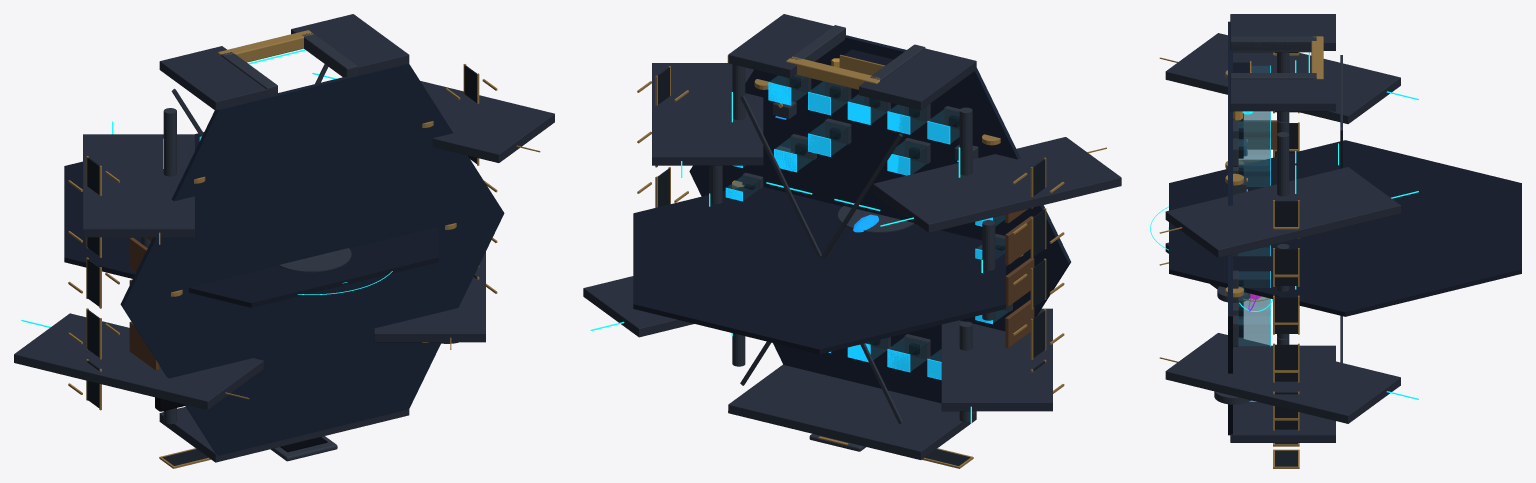
Rendered from newglb.glb.
The picture shows the model from 3 angles, left to right: view 1: azimuth 30°, elevation 25°; view 2: azimuth 150°, elevation 25°; view 3: azimuth 270°, elevation 25°; orthographic projection. The views are drawn at different scales.
Visible parts, largest first — view 1: MUSEUM_HEXAGONAL_FLOOR, MUSEUM_HIGH_HEXAGONAL_CEILING, MUSEUM_OUTER_WALL_02, MUSEUM_OUTER_WALL_03, MUSEUM_OUTER_WALL_00, MUSEUM_FRONT_WALL_LEFT, MUSEUM_OUTER_WALL_05, MUSEUM_FRONT_WALL_RIGHT, MUSEUM_OUTER_WALL_04, ENTRANCE_TOP, ENTRANCE_RIGHT_PILLAR, DRAVYA_CORE_BASE (+4 smaller); view 2: MUSEUM_HIGH_HEXAGONAL_CEILING, MUSEUM_HEXAGONAL_FLOOR, MUSEUM_OUTER_WALL_04, MUSEUM_OUTER_WALL_02, MUSEUM_OUTER_WALL_00, MUSEUM_OUTER_WALL_03, MUSEUM_FRONT_WALL_LEFT, MUSEUM_FRONT_WALL_RIGHT, MUSEUM_OUTER_WALL_05, ENTRANCE_TOP, DIGITAL_ART_CASE_22, CEILING_RADIAL_BEAM_01 (+17 smaller); view 3: MUSEUM_HIGH_HEXAGONAL_CEILING, MUSEUM_OUTER_WALL_00, MUSEUM_OUTER_WALL_05, MUSEUM_OUTER_WALL_02, MUSEUM_FRONT_WALL_RIGHT, MUSEUM_OUTER_WALL_04, MUSEUM_FRONT_WALL_LEFT, MUSEUM_HEXAGONAL_FLOOR, ENTRANCE_LEFT_PILLAR, DIGITAL_ART_CASE_09, SCIENCE_ARCHIVE_SHELF.002, DIGITAL_ART_CASE_16 (+15 smaller).
Boxes of the visible parts, x1=… form: MUSEUM_HEXAGONAL_FLOOR: x1=120, y1=62, x2=504, y2=455; MUSEUM_HIGH_HEXAGONAL_CEILING: x1=64, y1=132, x2=438, y2=307; MUSEUM_OUTER_WALL_02: x1=83, y1=134, x2=194, y2=237; MUSEUM_OUTER_WALL_03: x1=14, y1=313, x2=263, y2=409; MUSEUM_OUTER_WALL_00: x1=420, y1=81, x2=554, y2=162; MUSEUM_FRONT_WALL_LEFT: x1=159, y1=46, x2=277, y2=110; MUSEUM_OUTER_WALL_05: x1=374, y1=252, x2=485, y2=342; MUSEUM_FRONT_WALL_RIGHT: x1=291, y1=14, x2=409, y2=77; MUSEUM_OUTER_WALL_04: x1=159, y1=407, x2=409, y2=462; ENTRANCE_TOP: x1=217, y1=30, x2=313, y2=62; ENTRANCE_RIGHT_PILLAR: x1=302, y1=32, x2=357, y2=76; DRAVYA_CORE_BASE: x1=279, y1=248, x2=351, y2=272; MUSEUM_HIGH_HEXAGONAL_CEILING: x1=633, y1=186, x2=1005, y2=354; MUSEUM_HEXAGONAL_FLOOR: x1=689, y1=35, x2=1070, y2=403; MUSEUM_OUTER_WALL_04: x1=728, y1=364, x2=976, y2=459; MUSEUM_OUTER_WALL_02: x1=873, y1=137, x2=1121, y2=232; MUSEUM_OUTER_WALL_00: x1=652, y1=63, x2=763, y2=165; MUSEUM_OUTER_WALL_03: x1=941, y1=308, x2=1052, y2=411; MUSEUM_FRONT_WALL_LEFT: x1=859, y1=48, x2=976, y2=109; MUSEUM_FRONT_WALL_RIGHT: x1=728, y1=14, x2=832, y2=78; MUSEUM_OUTER_WALL_05: x1=583, y1=276, x2=693, y2=337; ENTRANCE_TOP: x1=786, y1=56, x2=880, y2=89; DIGITAL_ART_CASE_22: x1=809, y1=122, x2=846, y2=155; CEILING_RADIAL_BEAM_01: x1=740, y1=95, x2=821, y2=257; MUSEUM_HIGH_HEXAGONAL_CEILING: x1=1169, y1=140, x2=1521, y2=316; MUSEUM_OUTER_WALL_00: x1=1165, y1=167, x2=1400, y2=257; MUSEUM_OUTER_WALL_05: x1=1165, y1=333, x2=1400, y2=423; MUSEUM_OUTER_WALL_02: x1=1165, y1=33, x2=1400, y2=123; MUSEUM_FRONT_WALL_RIGHT: x1=1230, y1=74, x2=1335, y2=111; MUSEUM_OUTER_WALL_04: x1=1230, y1=345, x2=1335, y2=442; MUSEUM_FRONT_WALL_LEFT: x1=1230, y1=14, x2=1335, y2=50; MUSEUM_HEXAGONAL_FLOOR: x1=1228, y1=21, x2=1232, y2=435; ENTRANCE_LEFT_PILLAR: x1=1230, y1=36, x2=1316, y2=52; DIGITAL_ART_CASE_09: x1=1238, y1=316, x2=1269, y2=345; SCIENCE_ARCHIVE_SHELF.002: x1=1244, y1=120, x2=1276, y2=149; DIGITAL_ART_CASE_16: x1=1238, y1=139, x2=1269, y2=165.
Size of what is drawn, in the model's own units: 82.66 by 63.63 by 59.84.
